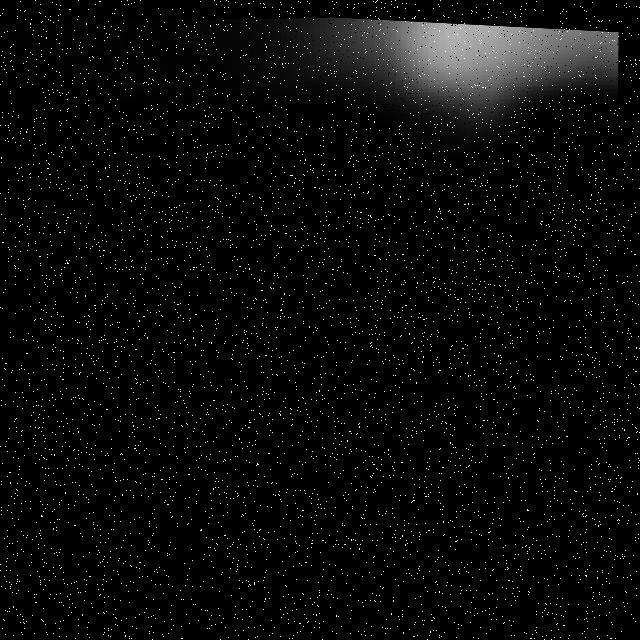person: (127, 7, 629, 204)
